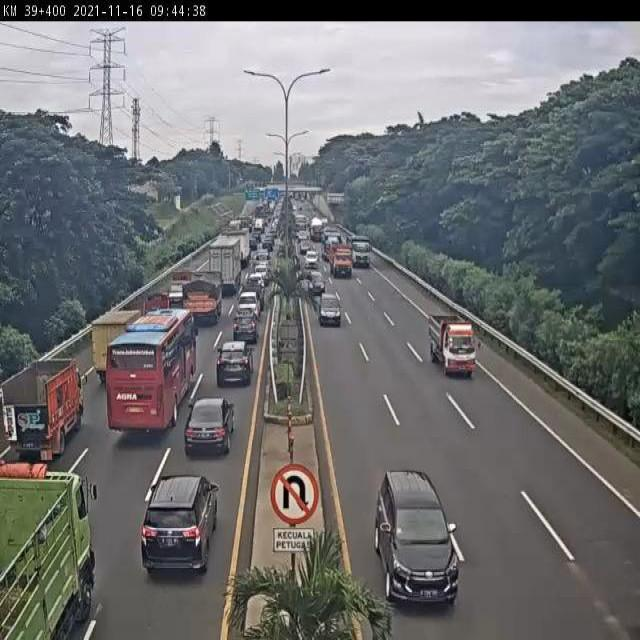big bus: (108, 308, 197, 431)
car: (374, 467, 459, 605), (139, 476, 216, 575), (182, 399, 235, 456), (217, 340, 256, 388), (316, 292, 342, 328), (232, 316, 255, 347), (240, 285, 262, 316), (244, 270, 263, 290)
small truck: (85, 315, 137, 384), (430, 313, 478, 376), (162, 273, 192, 312), (137, 292, 167, 329)
truck-l-: (0, 458, 96, 640), (206, 241, 241, 296)
truck-m-: (3, 355, 85, 453), (179, 276, 220, 329)
